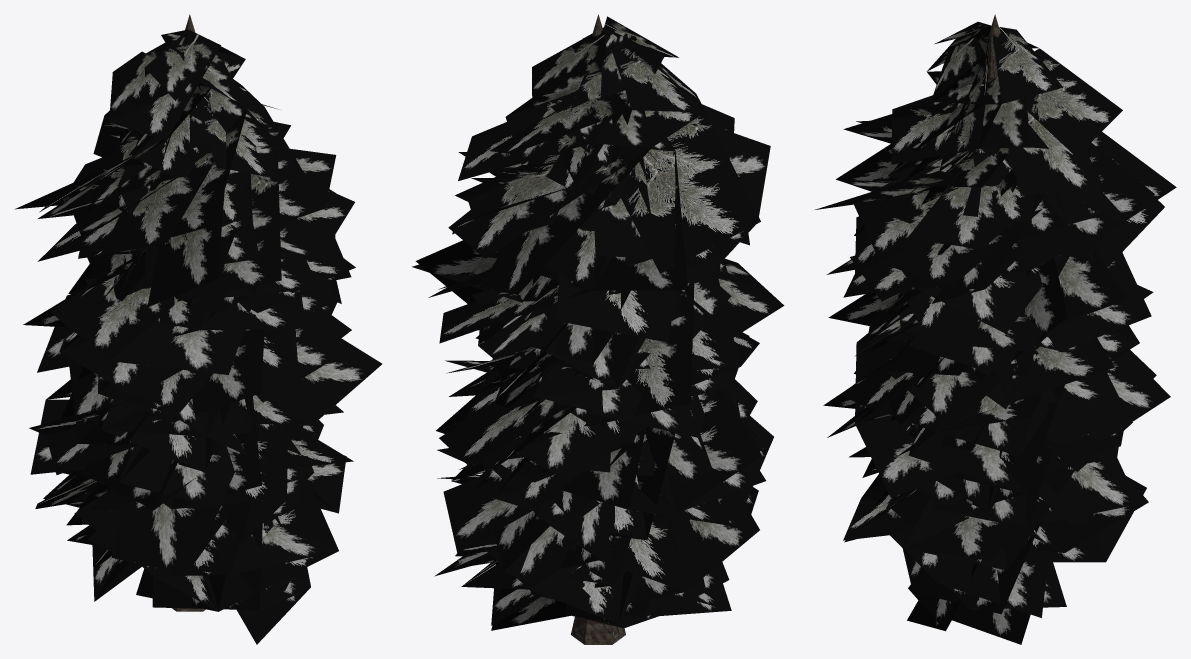
Rendered from Tree_Conifer_SnowLeaves.fbx.
3 renders of one model, left to right at view 1: azimuth 30°, elevation 25°; view 2: azimuth 150°, elevation 25°; view 3: azimuth 270°, elevation 25°, orthographic. The views are drawn at different scales.
Visible parts, largest first — view 1: SnowLeaf; view 2: SnowLeaf; view 3: SnowLeaf.
Part boxes in pixels (bbox=[...]): SnowLeaf: bbox=[15, 14, 382, 644]; SnowLeaf: bbox=[412, 14, 784, 644]; SnowLeaf: bbox=[815, 14, 1176, 644].
Bounding box in the file's own units: 3125 × 5684 × 3144.
